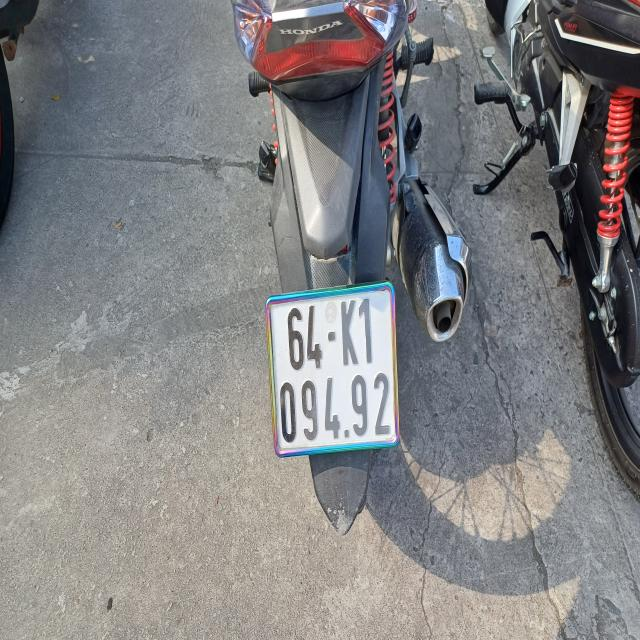0: (279, 378, 299, 439)
1: (359, 298, 376, 369)
2: (374, 373, 392, 439)
4: (305, 304, 326, 372), (322, 374, 340, 447)
6: (284, 308, 306, 369)
9: (347, 374, 370, 438), (300, 378, 320, 450)
K: (338, 299, 360, 366)
